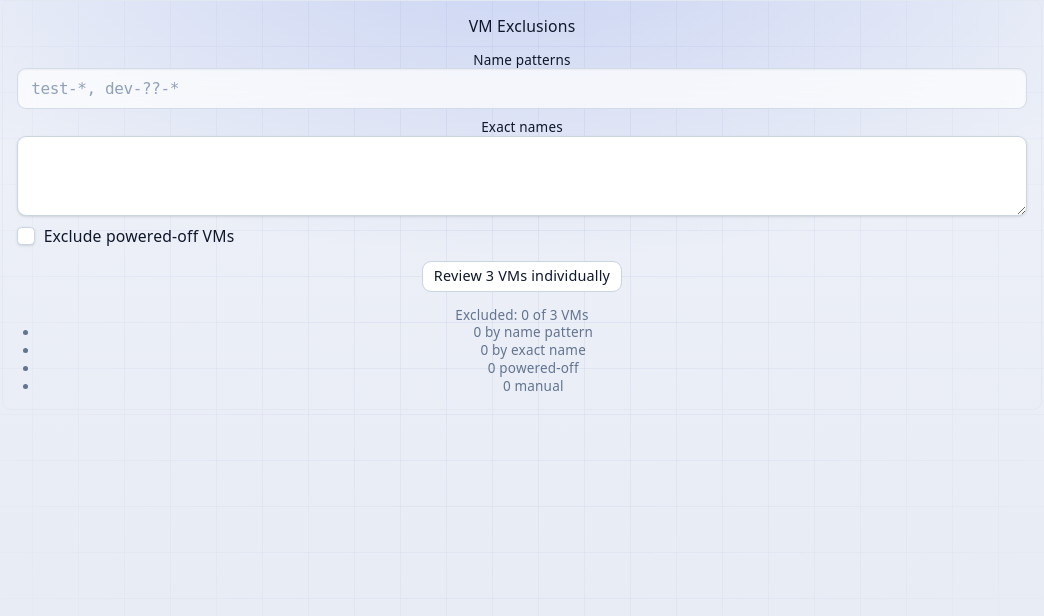
VmExclusionPanel › updates counts live when namePattern changes
Type "test-*" into the field labelled "Name patterns" at point(522, 89), box [17,68,1027,109]
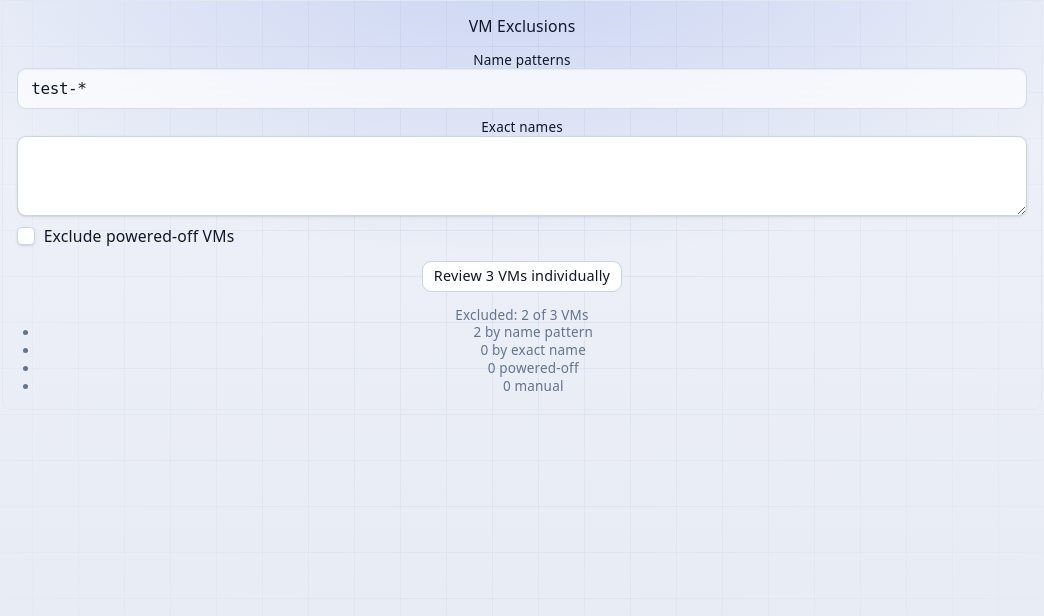
Result: the text "Excluded: 2 of 3 VMs" is shown at [455,306,589,324]
Result: the list item "2 by name pattern" is shown at [474,324,593,342]
